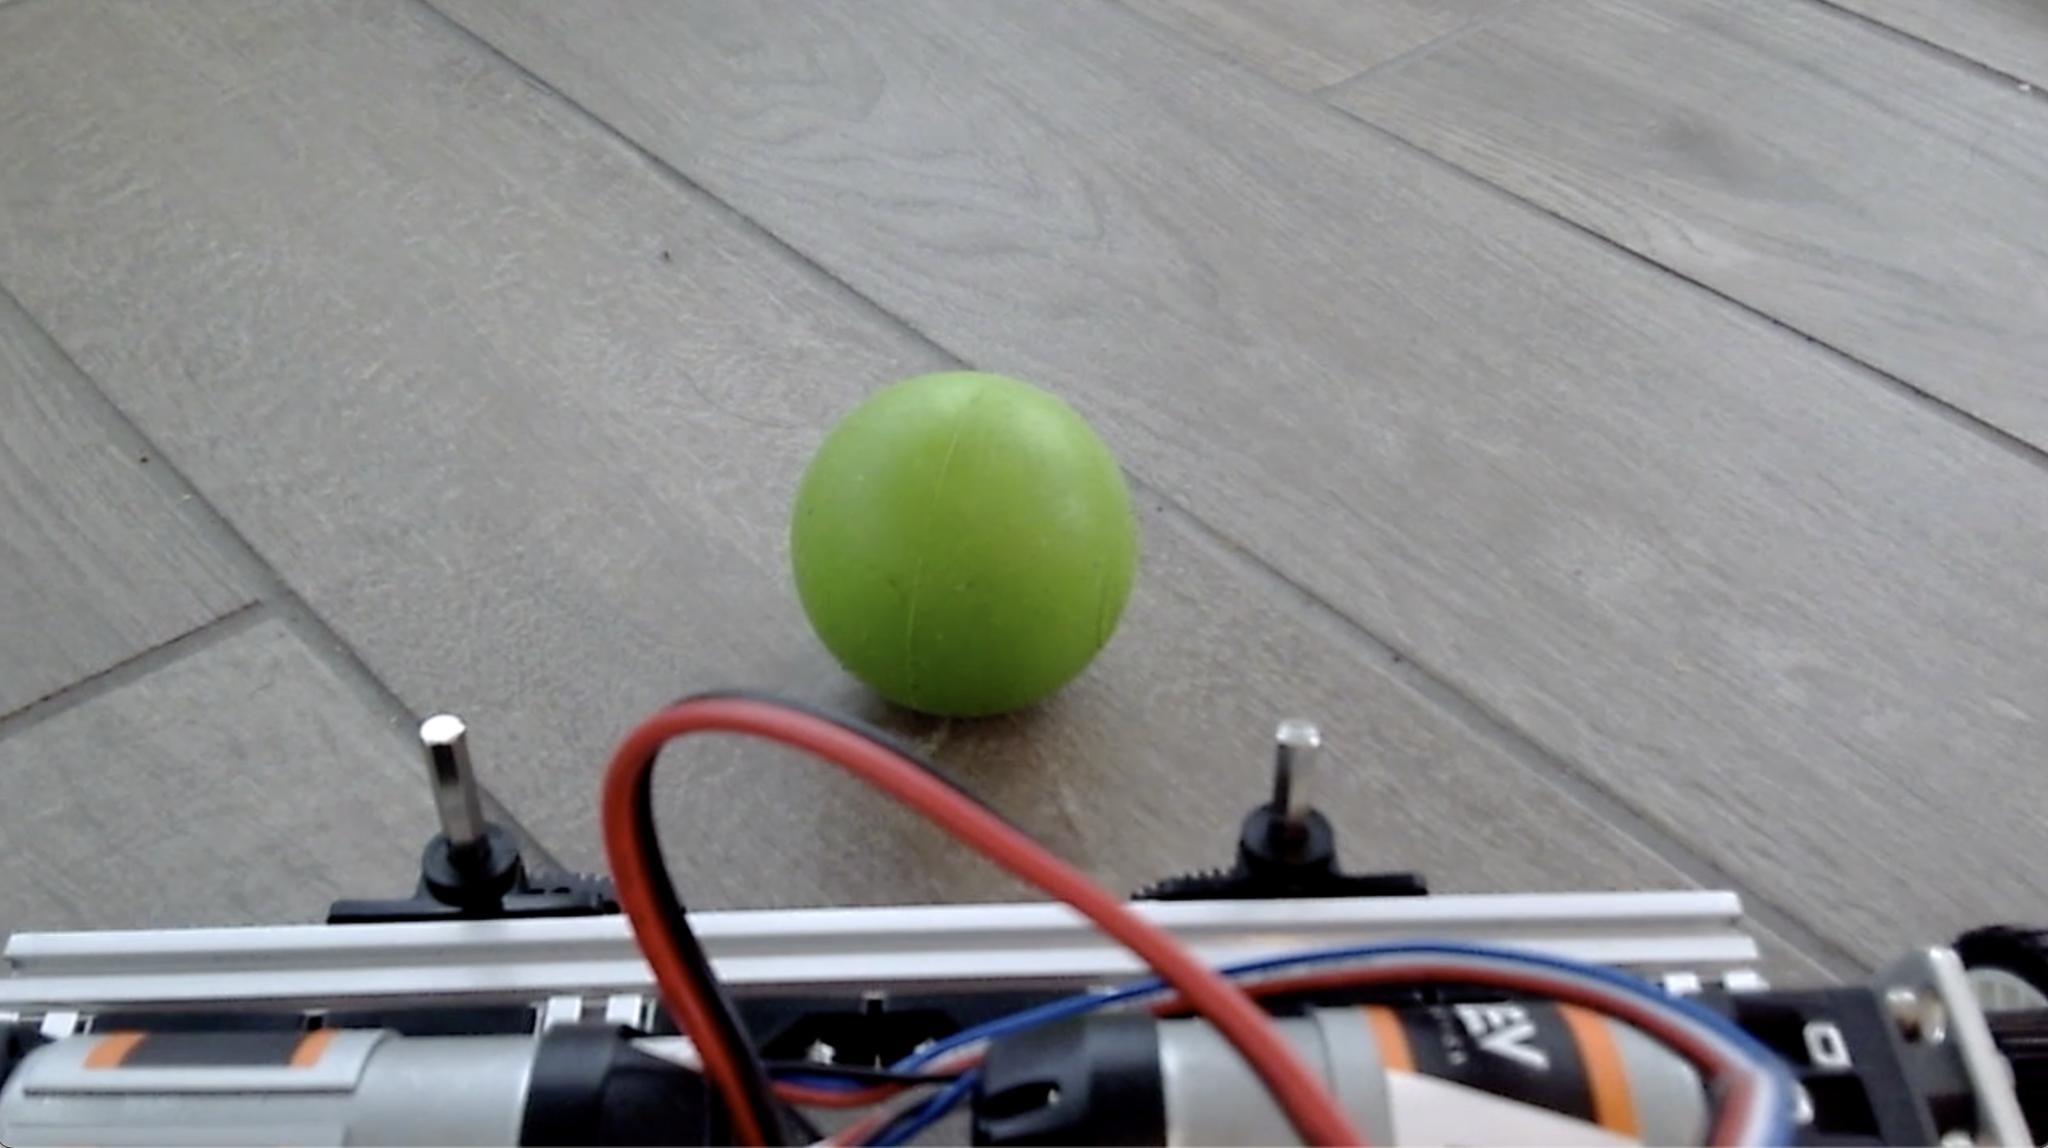greenball: (786, 364, 1139, 720)
